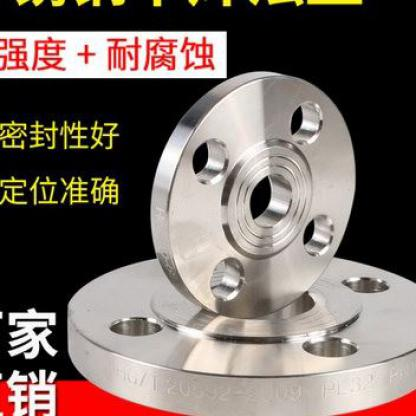FOD: (63, 239, 414, 415), (147, 68, 364, 324)
